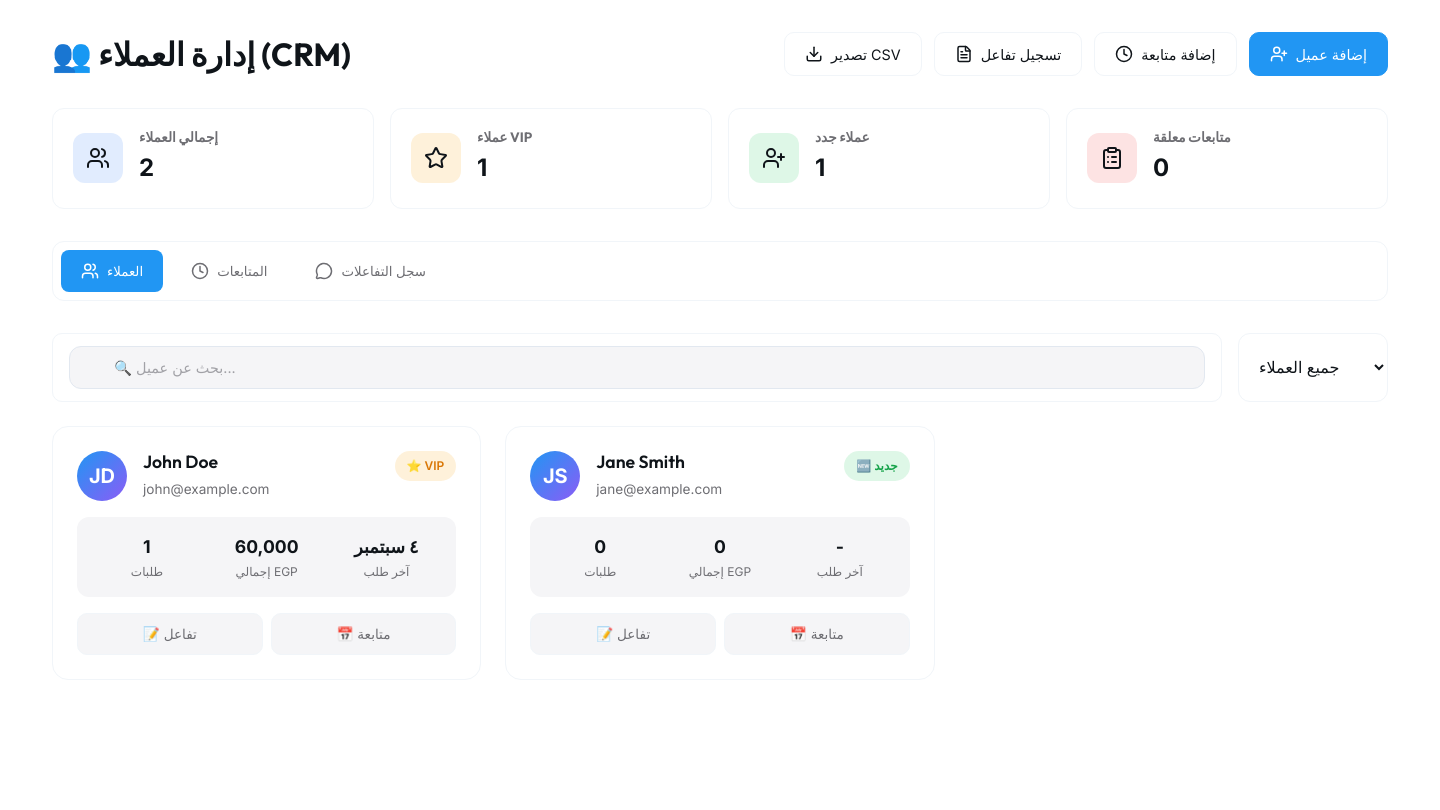
Test: CRMDashboard Page › should open add customer modal
The image size is (1440, 810).
Expected: the heading "👥 إدارة العملاء (CRM)" is shown, x1=52 y1=35 x2=351 y2=73
Click the button "إضافة عميل" at (1318, 54), box x1=1249 y1=32 x2=1388 y2=76
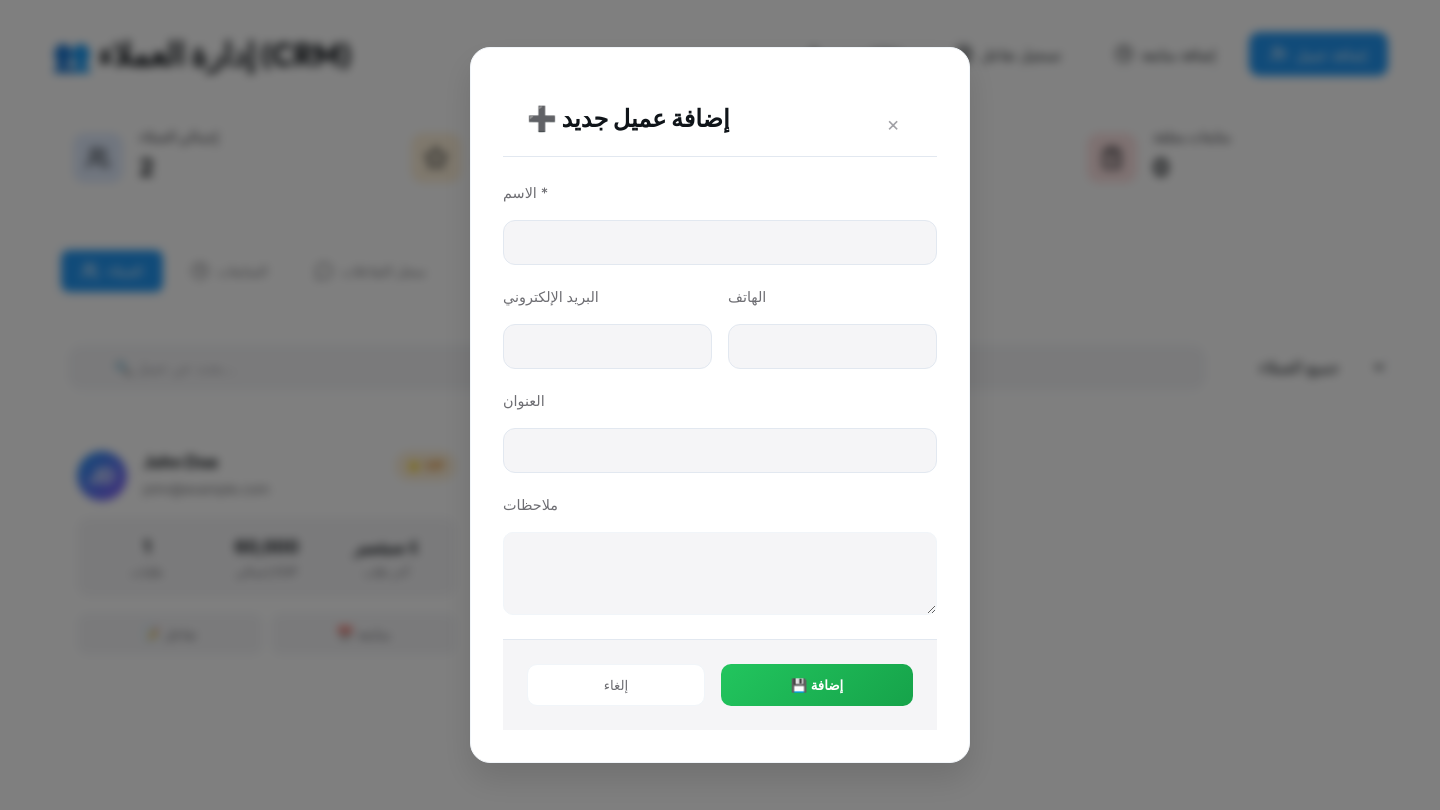
Result: the heading "➕ إضافة عميل جديد" is shown at x1=527 y1=104 x2=730 y2=132
